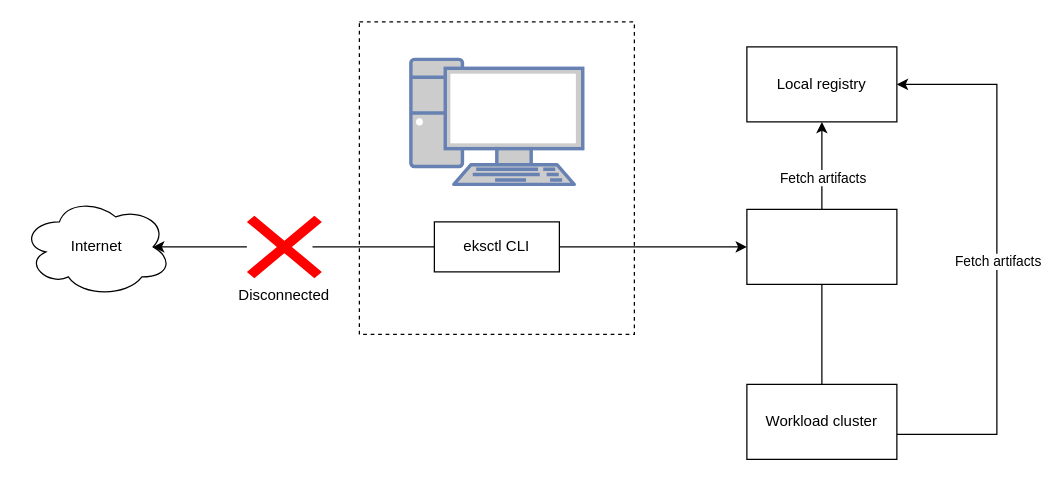
Some shapes in this 1063 by 481 pixel diagram are drawn without their labels. The centre of each missing label's shape, as x and y in pixels:
"Admin Machine" goes at [496,121].
"Management cluster" goes at [821,246].
